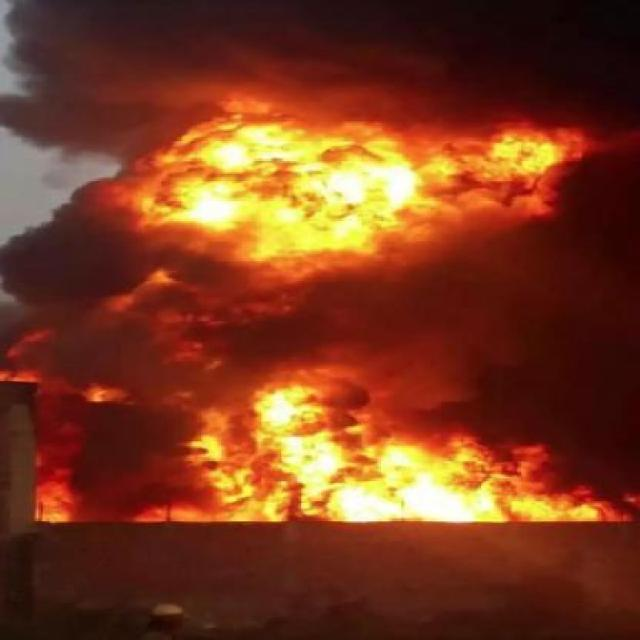Fire: (63, 100, 640, 523)
Smoke: (281, 173, 640, 504), (4, 0, 640, 141), (26, 193, 286, 522)
